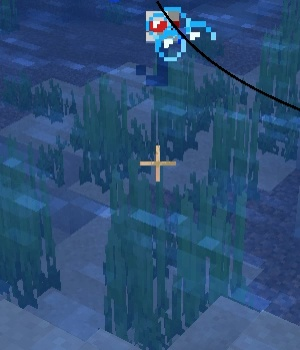up: (140, 10, 180, 88)
